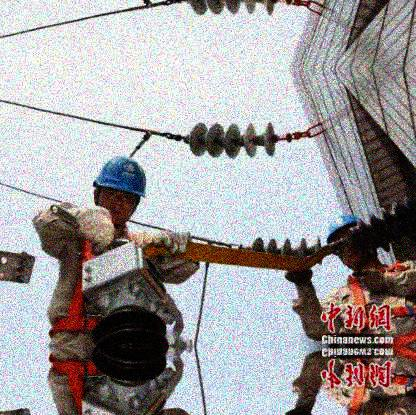helmet: (95, 157, 146, 225), (326, 215, 371, 265)
